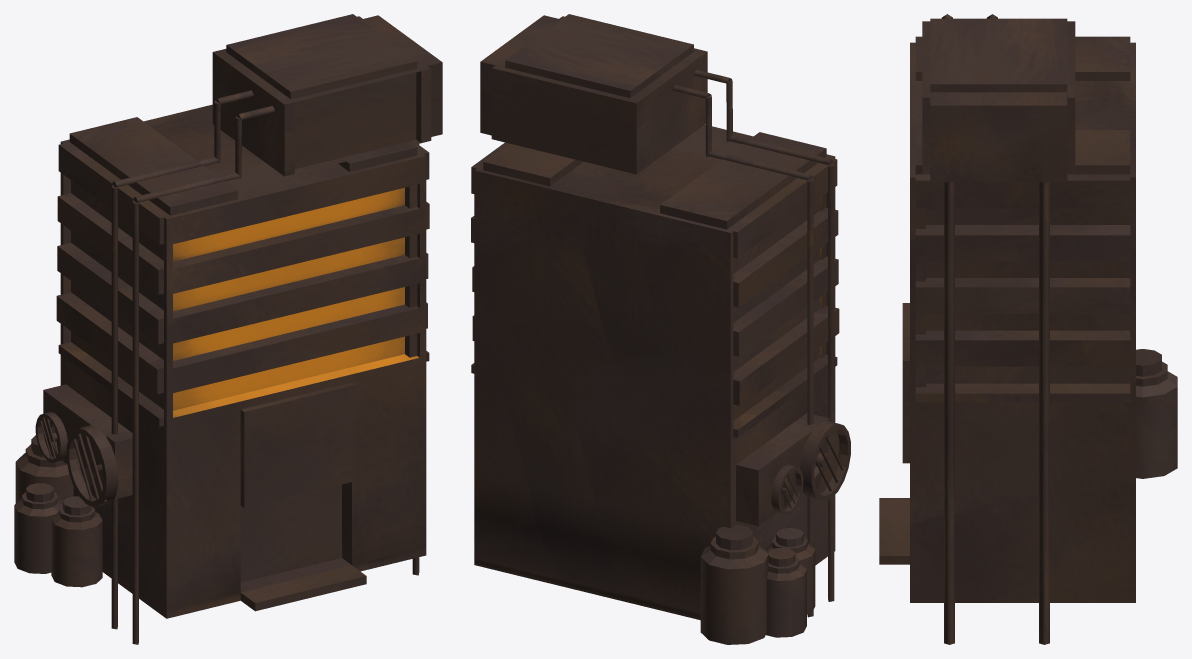
File: building1.FBX
3 renders of one model, left to right at view 1: azimuth 30°, elevation 25°; view 2: azimuth 150°, elevation 25°; view 3: azimuth 270°, elevation 25°, orthographic. The views are drawn at different scales.
Parts seen in each view (by area): view 1: Box014, Box017, Cylinder072, Cylinder071, Box016, Cylinder052, Cylinder055, Cylinder048, Cylinder070, Cylinder051, Cylinder053, Cylinder054; view 2: Box014, Box017, Cylinder070, Box016, Cylinder071, Cylinder048, Cylinder052, Cylinder055, Cylinder072, Cylinder051, Cylinder053, Cylinder054; view 3: Box014, Box017, Cylinder061, Cylinder062, Cylinder070.
Part boxes in pixels (box(x1,y1,x2,y2)): Box014: box(56, 104, 429, 618); Box017: box(212, 14, 442, 176); Cylinder072: box(51, 496, 102, 587); Cylinder071: box(14, 483, 62, 573); Box016: box(43, 384, 132, 499); Cylinder052: box(132, 200, 138, 644); Cylinder055: box(111, 185, 117, 629); Cylinder048: box(66, 425, 118, 506); Cylinder070: box(15, 435, 73, 503); Cylinder051: box(35, 412, 67, 462); Cylinder053: box(133, 172, 239, 202); Cylinder054: box(112, 157, 218, 187); Box014: box(471, 124, 839, 620); Box017: box(480, 14, 707, 174); Cylinder070: box(700, 524, 768, 644); Box016: box(736, 413, 829, 526); Cylinder071: box(766, 548, 806, 637); Cylinder048: box(800, 420, 850, 501); Cylinder052: box(828, 163, 834, 601); Cylinder055: box(807, 178, 813, 617); Cylinder072: box(765, 528, 815, 614); Cylinder051: box(771, 464, 803, 515); Cylinder053: box(728, 135, 833, 165); Cylinder054: box(707, 150, 812, 180); Box014: box(879, 36, 1135, 602); Box017: box(922, 18, 1075, 182); Cylinder061: box(944, 182, 954, 644); Cylinder062: box(1039, 182, 1049, 644); Cylinder070: box(1136, 349, 1177, 478).
Bounding box in the file's own units: 216 × 313 × 153.
